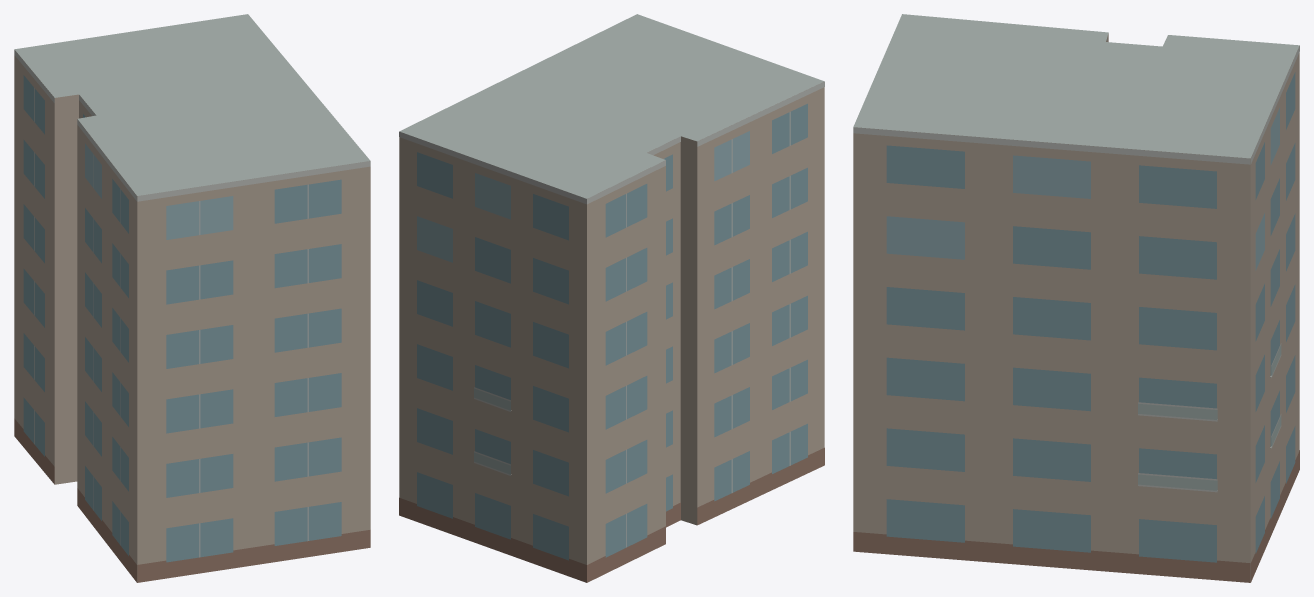
The model's file is survey-upis-33035764.glb.
3 views of the same model, side by side, from view 1: azimuth 30°, elevation 25°; view 2: azimuth 150°, elevation 25°; view 3: azimuth 270°, elevation 25° (orthographic). The views are drawn at different scales.
Visible parts, largest first — view 1: survey-upis-33035764.tmp; view 2: survey-upis-33035764.tmp; view 3: survey-upis-33035764.tmp.
Part boxes in pixels (x1,y1,x2,y2): survey-upis-33035764.tmp: [14, 14, 370, 582]; survey-upis-33035764.tmp: [399, 14, 824, 582]; survey-upis-33035764.tmp: [853, 14, 1299, 582].
Bounding box in the file's own units: 12.2 × 16.7 × 15.93.
